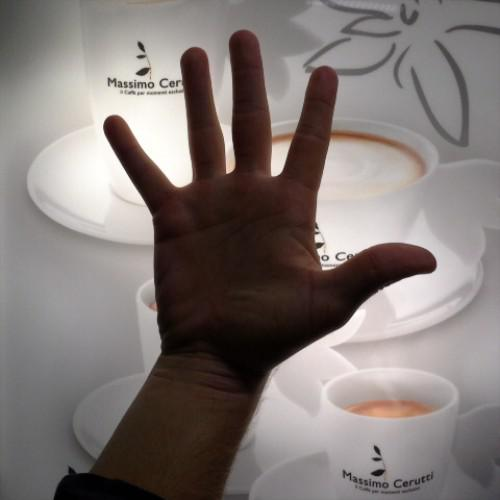paper: (92, 25, 444, 373)
